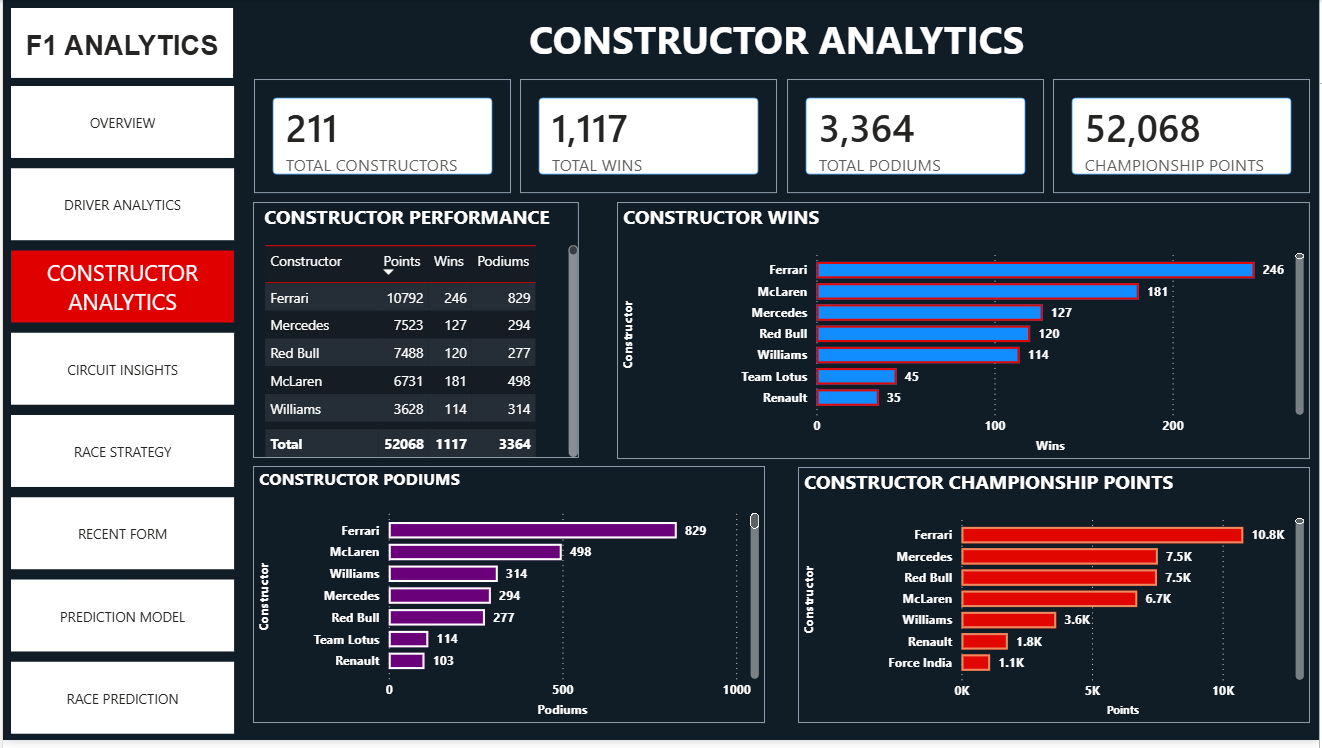

What the dashboard file says about the page in this screenshot:
{"tool":"powerbi","page":{"name":"CONSTRUCTOR ANALYTICS","canvas":[1280,720],"ordinal":2},"visuals":[{"type":"tableEx","title":"CONSTRUCTOR PERFORMANCE  ","fields":{"Values":["constructors_clean.constructorName","results_clean.Constructor Points","results_clean.Total Wins","results_clean.Total Podiums"]},"box":[243.2,196.7,317,249.4],"z":0},{"type":"textbox","box":[8.2,8.2,216.4,68.2],"z":1000},{"type":"pageNavigator","title":"              F1 ANALYTICS","box":[8.2,83.6,217.3,635.5],"z":2000},{"type":"textbox","box":[234.5,8.2,1036.4,68.2],"z":3000},{"type":"clusteredBarChart","title":"CONSTRUCTOR WINS","fields":{"Category":["constructors_clean.constructorName"],"Y":["results_clean.Total Wins"]},"box":[597.2,196.5,674,250],"z":4000},{"type":"clusteredBarChart","title":"CONSTRUCTOR CHAMPIONSHIP POINTS","fields":{"Y":["results_clean.Total Points"],"Category":["constructors_clean.constructorName"]},"box":[773.3,454.2,498,249],"z":5000},{"type":"clusteredBarChart","title":"CONSTRUCTOR PODIUMS","fields":{"Category":["constructors_clean.constructorName"],"Y":["results_clean.Total Podiums"]},"box":[243.2,453.3,498,250],"z":6000},{"type":"cardVisual","fields":{"Data":["Dim Season.Tooltip Podiums"]},"box":[762.4,77.1,250,111.5],"z":9000},{"type":"cardVisual","fields":{"Data":["Dim Season.Tooltip Wins"]},"box":[503.2,77.1,250,111.5],"z":10000},{"type":"cardVisual","fields":{"Data":["constructors_clean.Total Constructors"]},"box":[244.1,77.1,250,111.5],"z":11000},{"type":"cardVisual","fields":{"Data":["Dim Season.Tooltip Championship"]},"box":[1021.5,77.1,250,111.5],"z":12000}]}

Visuals, with their boxes in screenshot pixels (x1, y1, x2, y2), scaled from the page's 1280x720 canvas onto the 1322x748 screenshot:
"CONSTRUCTOR PERFORMANCE  " tableEx: [251, 204, 579, 463]
textbox: [8, 9, 232, 79]
"              F1 ANALYTICS" pageNavigator: [8, 87, 233, 747]
textbox: [242, 9, 1313, 79]
"CONSTRUCTOR WINS" clusteredBarChart: [617, 204, 1313, 464]
"CONSTRUCTOR CHAMPIONSHIP POINTS" clusteredBarChart: [799, 472, 1313, 731]
"CONSTRUCTOR PODIUMS" clusteredBarChart: [251, 471, 766, 731]
cardVisual - Dim Season.Tooltip Podiums: [787, 80, 1046, 196]
cardVisual - Dim Season.Tooltip Wins: [520, 80, 778, 196]
cardVisual - constructors_clean.Total Constructors: [252, 80, 510, 196]
cardVisual - Dim Season.Tooltip Championship: [1055, 80, 1313, 196]
